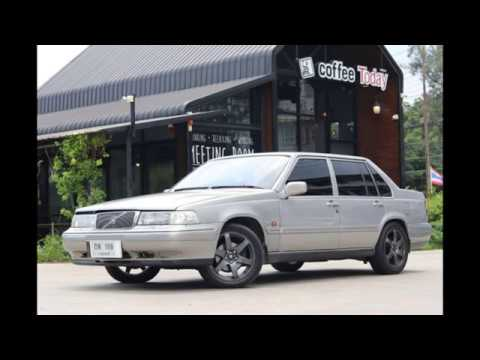sedan: (61, 151, 430, 289)
